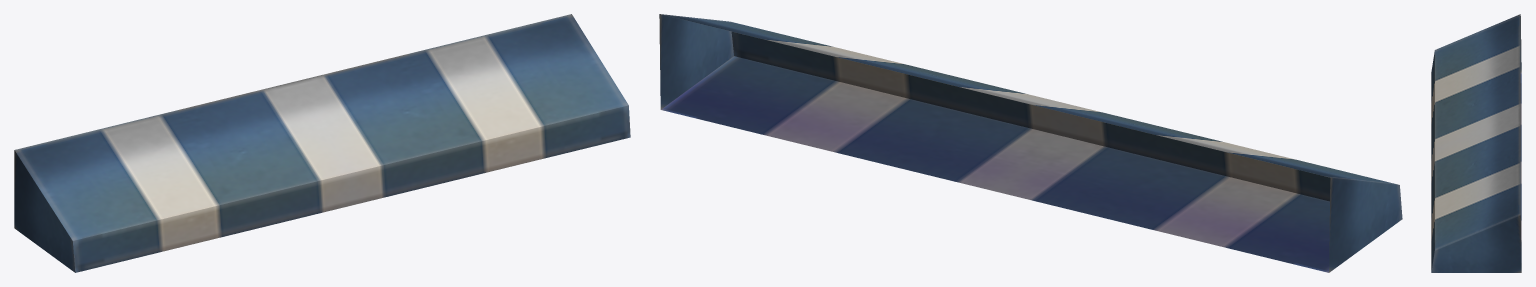
Rendered from PK_model_sundries_02.FBX.
3 views of the same model, side by side, from view 1: azimuth 30°, elevation 25°; view 2: azimuth 150°, elevation 25°; view 3: azimuth 270°, elevation 25° (orthographic). The views are drawn at different scales.
Visible parts, largest first — view 1: PK_model_sundries_02; view 2: PK_model_sundries_02; view 3: PK_model_sundries_02.
Boxes of the visible parts, box(x1,y1,x2,y2) form: PK_model_sundries_02: box(14, 14, 630, 272); PK_model_sundries_02: box(659, 14, 1402, 272); PK_model_sundries_02: box(1431, 14, 1521, 272).
Size of the model in its own units: 711 by 96.11 by 135.
